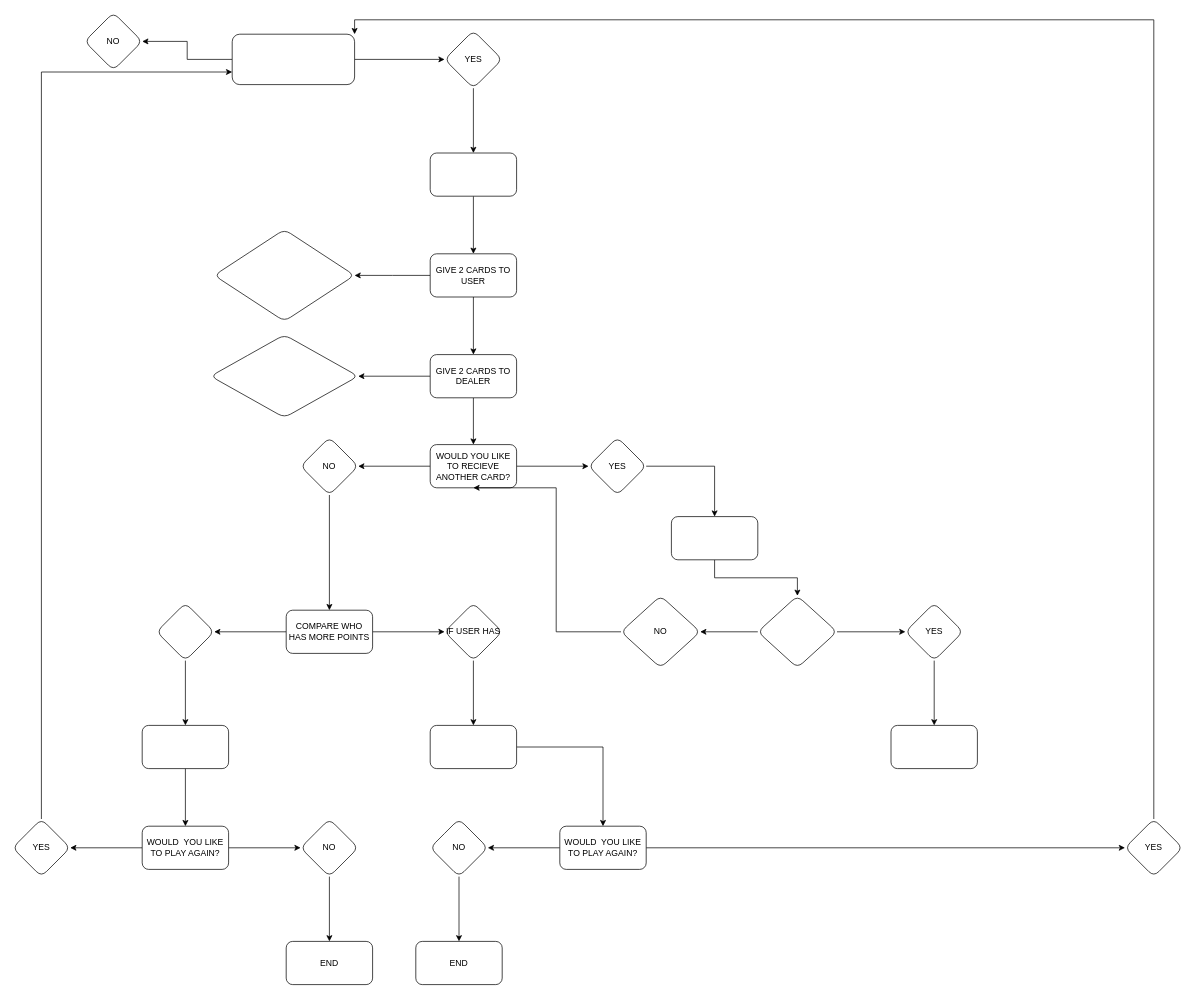
Some shapes in this 1195 by 997 pixel diagram are drawn without their labels. Each missing label, with the box of its shape:
ADDING 1 MORE CARD TO THE PLAYER PACK: (671, 516, 758, 560)
COUNT THE TOTAL SCORE VALUE OF USER: (213, 229, 355, 321)
DEALER WON: (141, 725, 229, 769)
EXPOSE ONE CARD OF THE DEALER: (210, 334, 358, 418)
IF DEALER HAS: (156, 602, 214, 661)
IS CURRENT PACK HIGHER THEN 21?: (757, 595, 837, 668)
SHUFFLE THE CARDS PACK: (429, 152, 517, 196)
USER WON: (429, 725, 517, 769)
Would you like to play blackjack?: (231, 33, 355, 85)
YOU LOSE: (890, 725, 977, 769)
